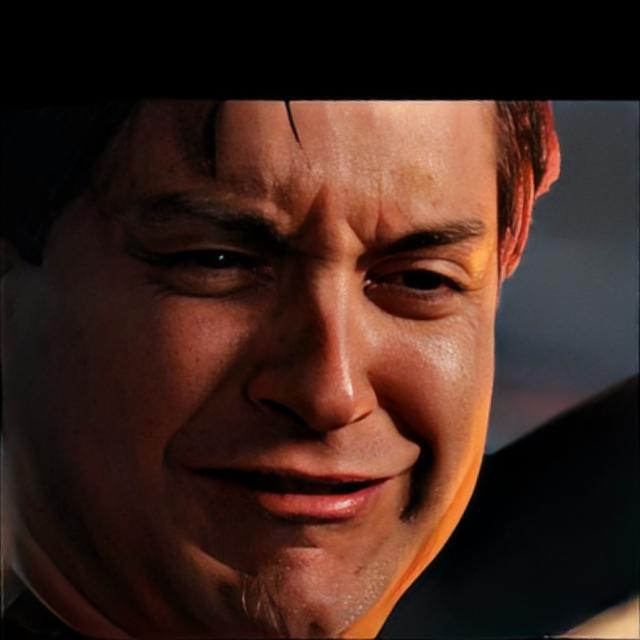sad: (0, 97, 504, 640)
